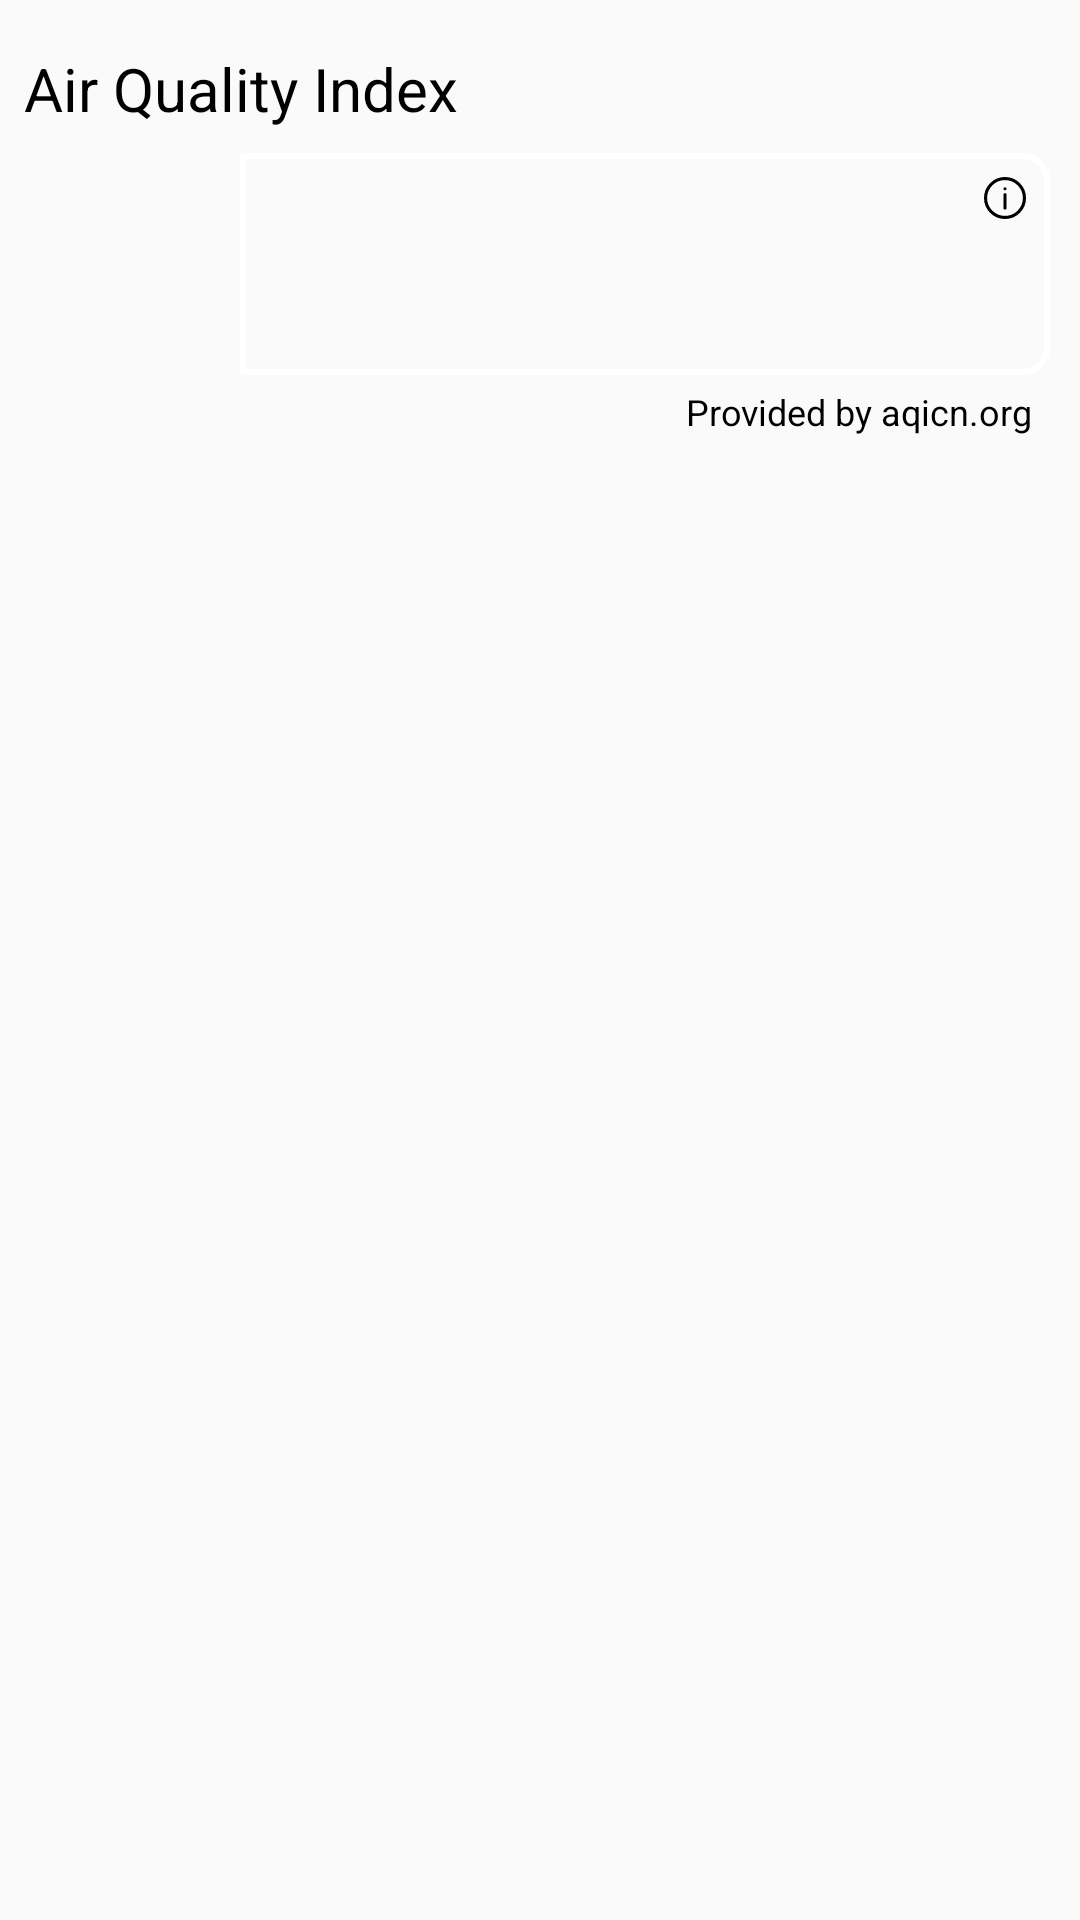

Icons on this 1080*1920 Android screen, each with the point to tap as point (x, y):
info: point (1005, 198)
